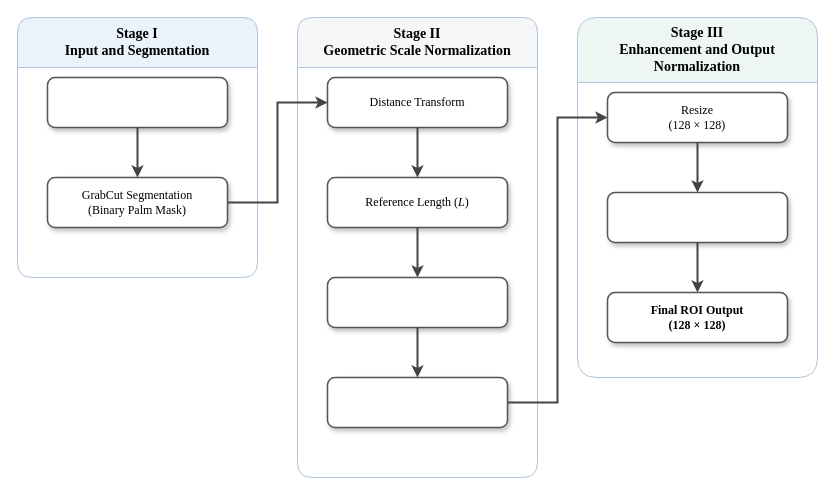
This 835x495 diagram has some shape labels left out. The shapes that lost their labels are listed below. From the top down, each one's centre as x and y in pixels, then its label:
point 138,103: Raw Grayscale Input (480 × 640)
point 698,218: CLAHE Enhancement
point 418,303: Scale-Adaptive ROI Extraction ( k × L )
point 418,403: Padding & Boundary Handling
